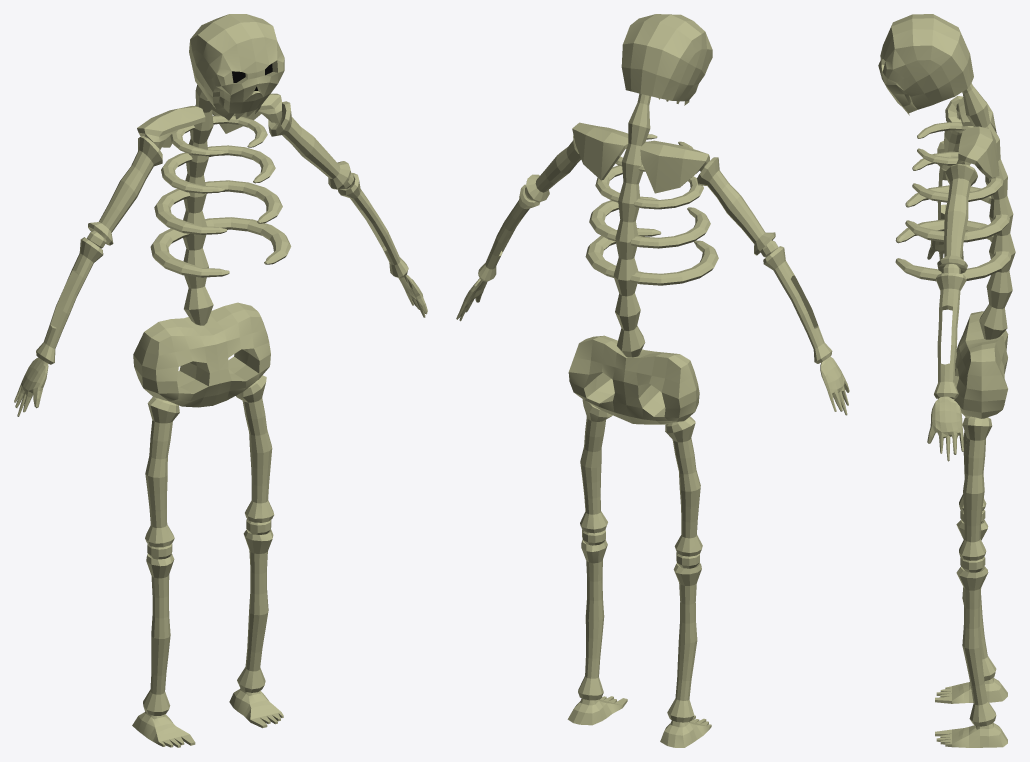
Rendered from esqueleto n1 vertical.fbx.
The picture shows the model from 3 angles, left to right: view 1: azimuth 30°, elevation 25°; view 2: azimuth 150°, elevation 25°; view 3: azimuth 270°, elevation 25°; orthographic projection. The views are drawn at different scales.
Parts seen in each view (by area): view 1: cabeza; view 2: cabeza; view 3: cabeza.
Part boxes in pixels (x1=…): cabeza: x1=14, y1=14, x2=427, y2=747; cabeza: x1=456, y1=14, x2=849, y2=747; cabeza: x1=878, y1=14, x2=1015, y2=747.
Size of the model in its own units: 35.58 by 60.27 by 10.73.
